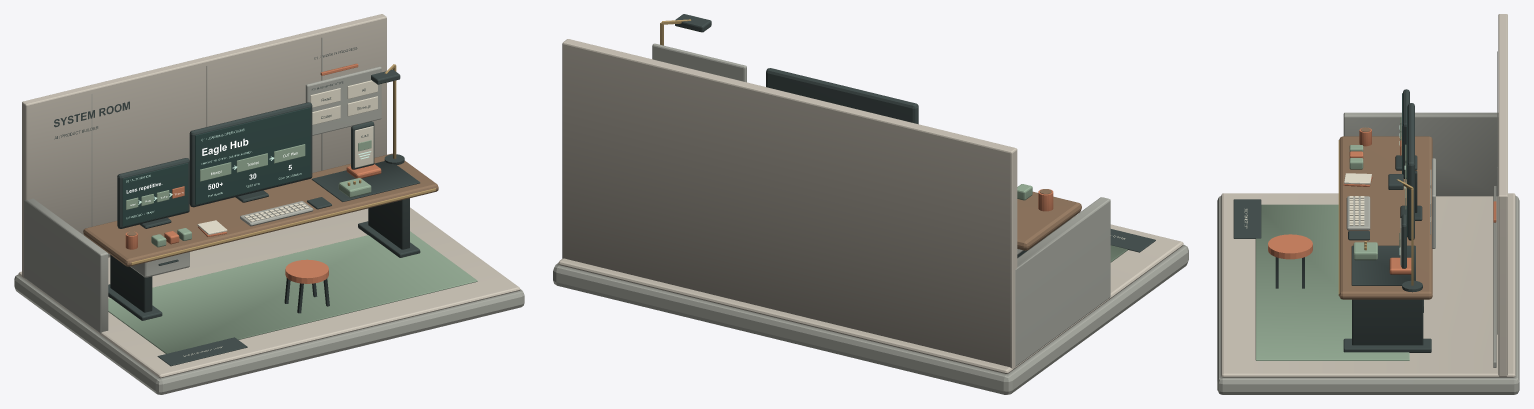
Rendered from system-room.glb.
The picture shows the model from 3 angles, left to right: view 1: azimuth 30°, elevation 25°; view 2: azimuth 150°, elevation 25°; view 3: azimuth 270°, elevation 25°; orthographic projection. The views are drawn at different scales.
Parts seen in each view (by area): view 1: 01_Architecture__01_Plaster, 01_Architecture__06_Sage, 01_Architecture__02_Limestone, 02_Furniture__04_Table_Oak, 03_Eagle_Hub__08_Screen_Ink, 02_Furniture__03_Graphite, 04_Automation__08_Screen_Ink, 05_Build_Prototype__02_Limestone, 05_Build_Prototype__03_Graphite, 05_Build_Prototype__07_Ivory, 03_Eagle_Hub__03_Graphite, 01_Architecture__03_Graphite (+10 smaller); view 2: 01_Architecture__01_Plaster, 01_Architecture__02_Limestone, 03_Eagle_Hub__03_Graphite, 02_Furniture__04_Table_Oak, 05_Build_Prototype__02_Limestone, 01_Architecture__03_Graphite; view 3: 01_Architecture__01_Plaster, 01_Architecture__02_Limestone, 01_Architecture__06_Sage, 02_Furniture__04_Table_Oak, 02_Furniture__03_Graphite, 05_Build_Prototype__03_Graphite, 03_Eagle_Hub__03_Graphite, 01_Architecture__03_Graphite, 02_Furniture__05_Terracotta, 03_Eagle_Hub__02_Limestone, 04_Automation__03_Graphite, 05_Build_Prototype__06_Sage (+9 smaller).
Part boxes in pixels (bbox=[...]): 01_Architecture__01_Plaster: bbox=[18, 14, 520, 378]; 01_Architecture__06_Sage: bbox=[108, 231, 477, 353]; 01_Architecture__02_Limestone: bbox=[14, 37, 524, 394]; 02_Furniture__04_Table_Oak: bbox=[83, 153, 438, 266]; 03_Eagle_Hub__08_Screen_Ink: bbox=[195, 107, 310, 204]; 02_Furniture__03_Graphite: bbox=[108, 198, 420, 320]; 04_Automation__08_Screen_Ink: bbox=[122, 163, 188, 226]; 05_Build_Prototype__02_Limestone: bbox=[305, 66, 381, 135]; 05_Build_Prototype__03_Graphite: bbox=[311, 81, 420, 201]; 05_Build_Prototype__07_Ivory: bbox=[310, 80, 377, 167]; 03_Eagle_Hub__03_Graphite: bbox=[189, 102, 331, 209]; 01_Architecture__03_Graphite: bbox=[54, 47, 357, 366]; 01_Architecture__01_Plaster: bbox=[558, 39, 1183, 373]; 01_Architecture__02_Limestone: bbox=[553, 197, 1188, 394]; 03_Eagle_Hub__03_Graphite: bbox=[766, 68, 918, 124]; 02_Furniture__04_Table_Oak: bbox=[1017, 191, 1081, 250]; 05_Build_Prototype__02_Limestone: bbox=[652, 43, 746, 82]; 01_Architecture__03_Graphite: bbox=[1056, 220, 1155, 252]; 01_Architecture__01_Plaster: bbox=[1221, 14, 1515, 377]; 01_Architecture__02_Limestone: bbox=[1217, 51, 1519, 394]; 01_Architecture__06_Sage: bbox=[1255, 204, 1409, 360]; 02_Furniture__04_Table_Oak: bbox=[1339, 136, 1432, 299]; 02_Furniture__03_Graphite: bbox=[1275, 257, 1431, 352]; 05_Build_Prototype__03_Graphite: bbox=[1351, 214, 1415, 285]; 03_Eagle_Hub__03_Graphite: bbox=[1348, 103, 1422, 240]; 01_Architecture__03_Graphite: bbox=[1233, 199, 1261, 238]; 02_Furniture__05_Terracotta: bbox=[1268, 234, 1312, 259]; 03_Eagle_Hub__02_Limestone: bbox=[1346, 196, 1370, 230]; 04_Automation__03_Graphite: bbox=[1395, 89, 1417, 179]; 05_Build_Prototype__06_Sage: bbox=[1353, 233, 1400, 260].
Bounding box in the file's own units: 8 × 4 × 5.5.
